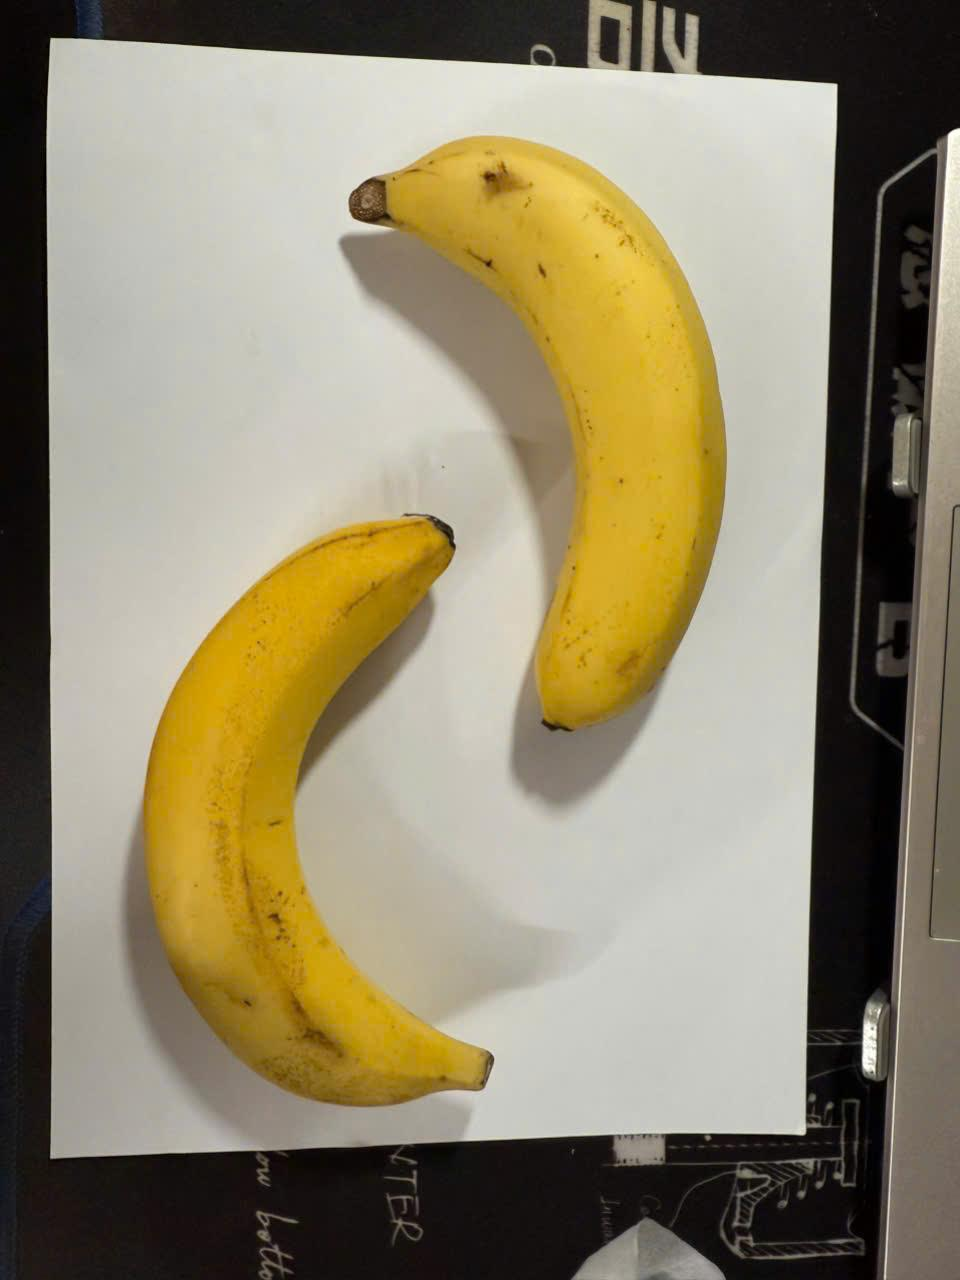banana: (350, 121, 768, 744), (110, 501, 522, 1110)
